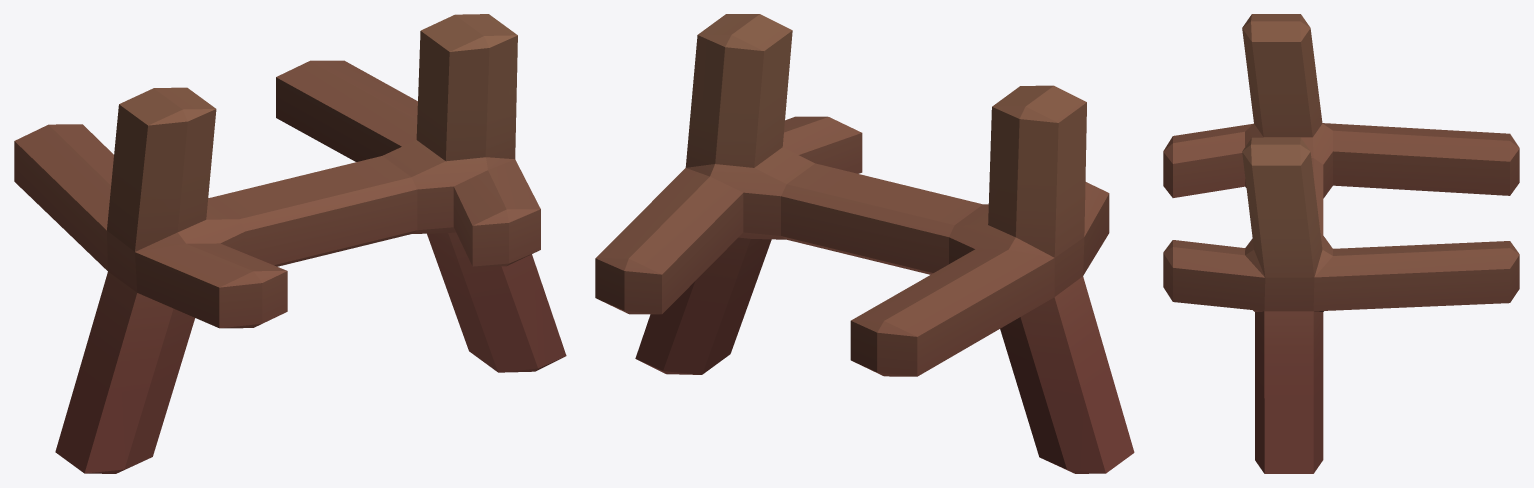
File: Cariage.fbx
3 views of the same model, side by side, from view 1: azimuth 30°, elevation 25°; view 2: azimuth 150°, elevation 25°; view 3: azimuth 270°, elevation 25° (orthographic). The views are drawn at different scales.
Visible parts, largest first — view 1: Cube; view 2: Cube; view 3: Cube.
Part boxes in pixels (bbox=[...]): Cube: bbox=[14, 14, 566, 473]; Cube: bbox=[595, 14, 1134, 473]; Cube: bbox=[1163, 14, 1519, 473].
Size of the model in its own units: 299 by 211 by 228.
